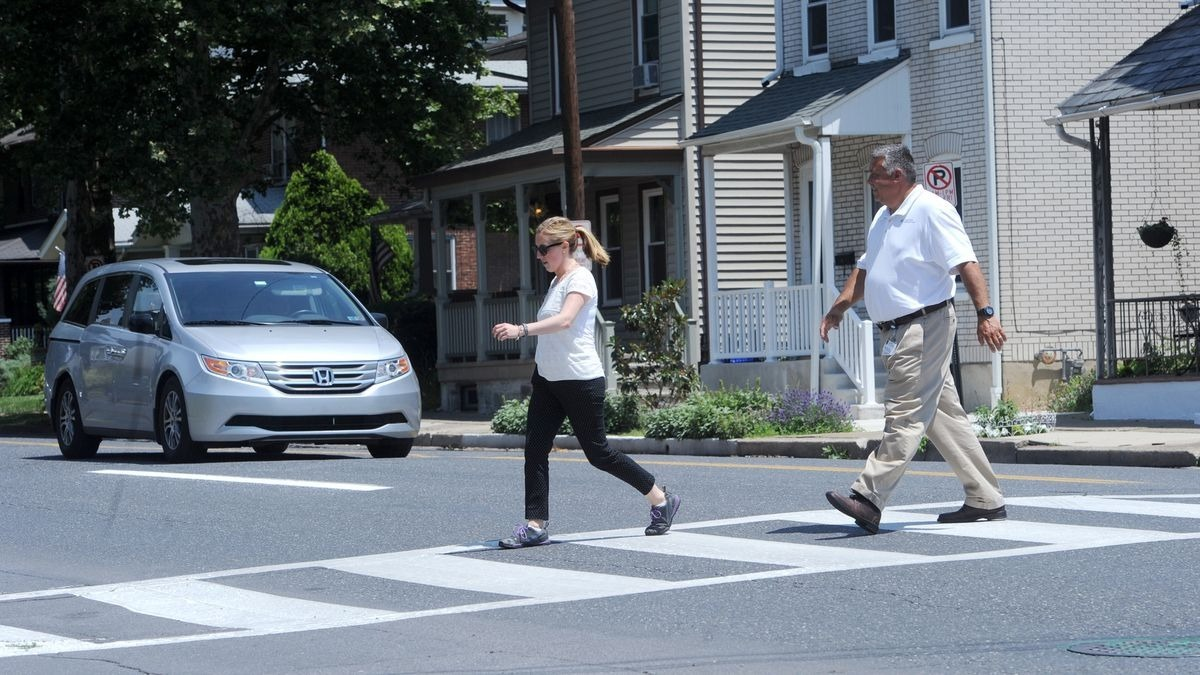crosswalk: (0, 487, 1199, 660)
